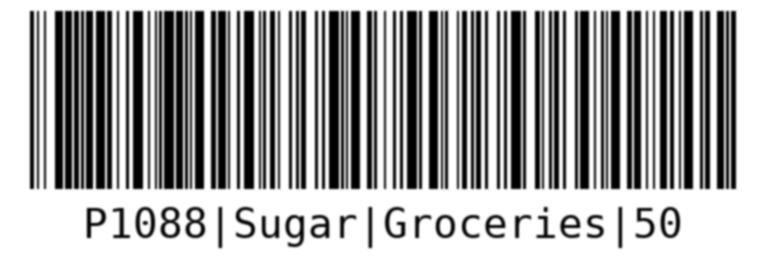milk: (24, 5, 742, 259)
